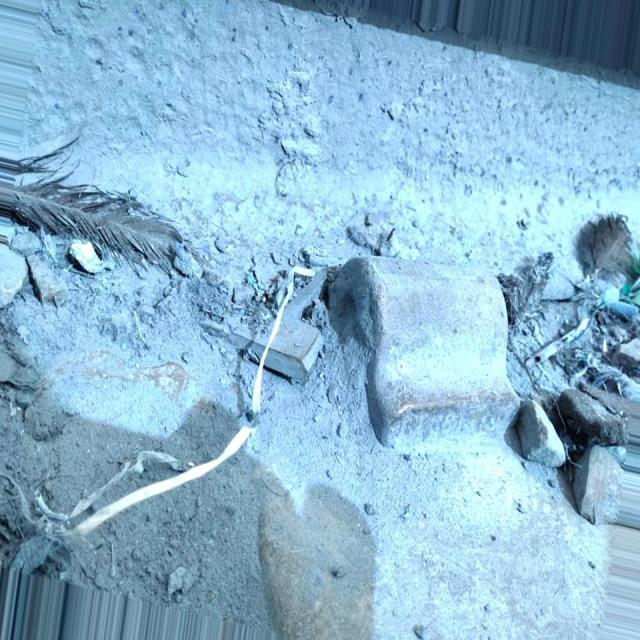Missing Fastener: (305, 240, 546, 446)
